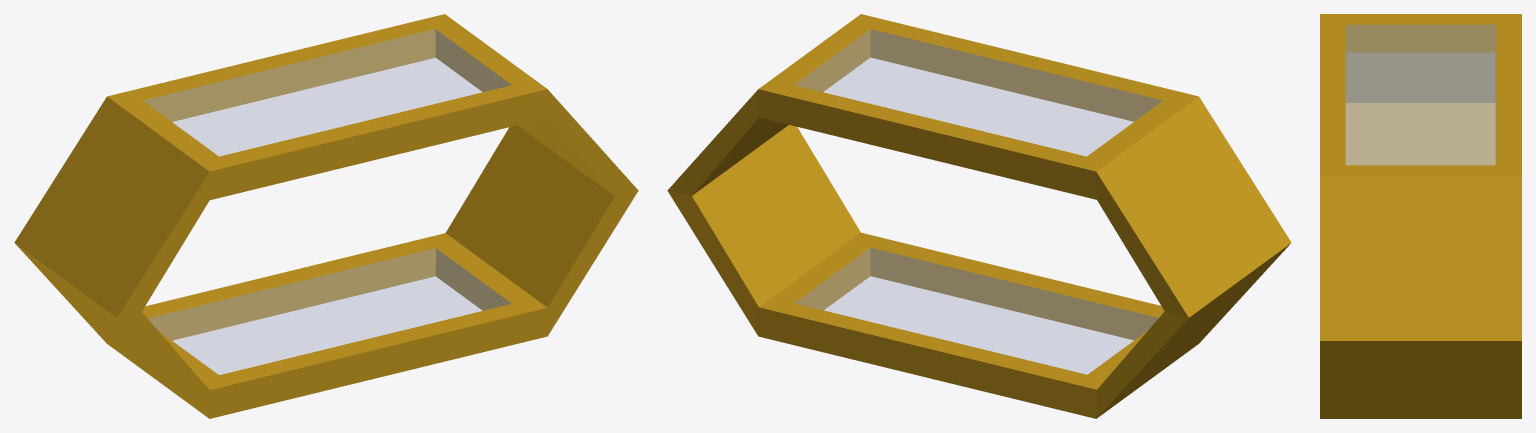
The model's file is hexagon rectangle table with glass gold.glb.
3 views of the same model, side by side, from view 1: azimuth 30°, elevation 25°; view 2: azimuth 150°, elevation 25°; view 3: azimuth 270°, elevation 25° (orthographic).
Parts seen in each view (by area): view 1: geometric glass table marble.002; view 2: geometric glass table marble.002; view 3: geometric glass table marble.002.
Boxes of the visible parts, x1=… form: geometric glass table marble.002: x1=14, y1=14, x2=638, y2=418; geometric glass table marble.002: x1=667, y1=14, x2=1291, y2=418; geometric glass table marble.002: x1=1320, y1=14, x2=1521, y2=418.
Size of the model in its own units: 2.05 by 0.9304 by 0.7.
